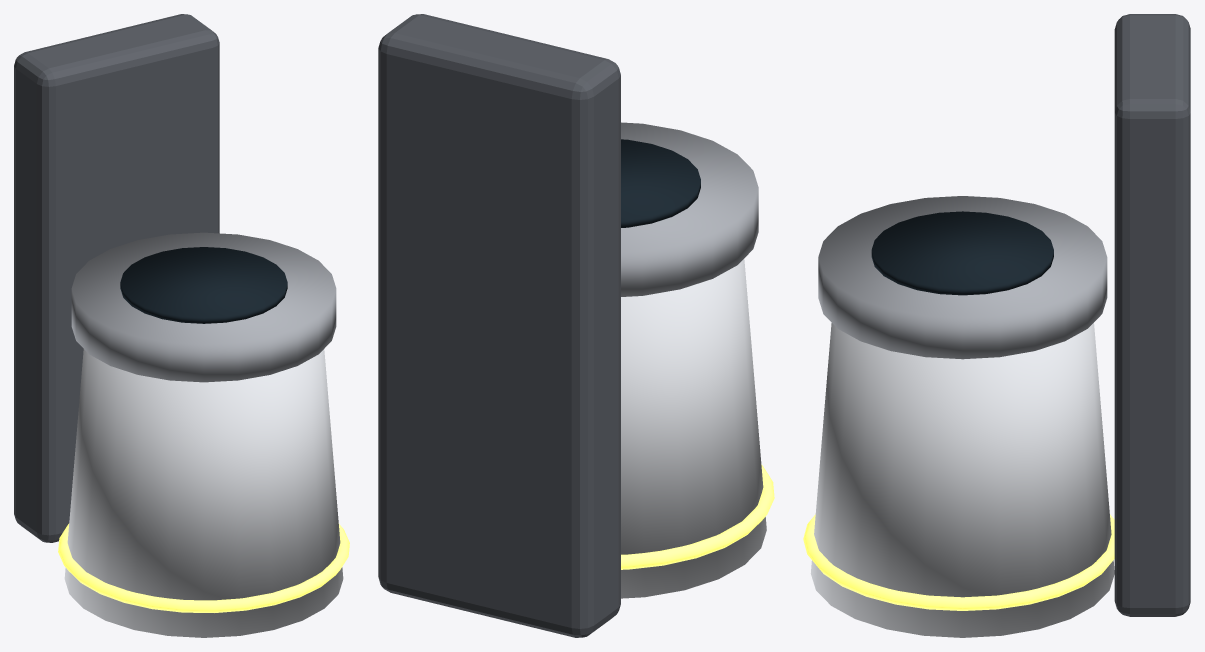
Rendered from toilet_zero_g.glb.
The picture shows the model from 3 angles, left to right: view 1: azimuth 30°, elevation 25°; view 2: azimuth 150°, elevation 25°; view 3: azimuth 270°, elevation 25°; orthographic projection. The views are drawn at different scales.
Visible parts, largest first — view 1: GD_toilet_zero_g__m0, GD_toilet_zero_g__m3, GD_toilet_zero_g__m1, GD_toilet_zero_g__m2, GD_toilet_zero_g__m4; view 2: GD_toilet_zero_g__m3, GD_toilet_zero_g__m0, GD_toilet_zero_g__m1, GD_toilet_zero_g__m2, GD_toilet_zero_g__m4; view 3: GD_toilet_zero_g__m0, GD_toilet_zero_g__m3, GD_toilet_zero_g__m1, GD_toilet_zero_g__m2, GD_toilet_zero_g__m4.
Part boxes in pixels (box(x1,y1,x2,y2)): GD_toilet_zero_g__m0: box(64, 349, 343, 637); GD_toilet_zero_g__m3: box(14, 14, 219, 542); GD_toilet_zero_g__m1: box(71, 232, 336, 382); GD_toilet_zero_g__m2: box(120, 247, 287, 323); GD_toilet_zero_g__m4: box(58, 523, 349, 612); GD_toilet_zero_g__m3: box(378, 14, 620, 637); GD_toilet_zero_g__m0: box(621, 259, 766, 598); GD_toilet_zero_g__m1: box(621, 122, 758, 296); GD_toilet_zero_g__m2: box(621, 139, 700, 227); GD_toilet_zero_g__m4: box(621, 464, 774, 569); GD_toilet_zero_g__m0: box(810, 323, 1114, 637); GD_toilet_zero_g__m3: box(1114, 14, 1190, 616); GD_toilet_zero_g__m1: box(818, 196, 1107, 359); GD_toilet_zero_g__m2: box(871, 211, 1053, 295); GD_toilet_zero_g__m4: box(803, 514, 1114, 610).
Bounding box in the file's own units: 0.42 × 0.75 × 0.51.
